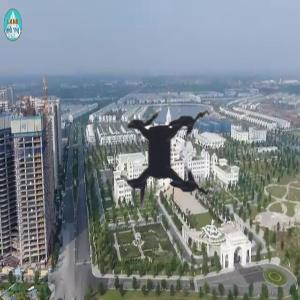drone: (73, 57, 267, 251)
